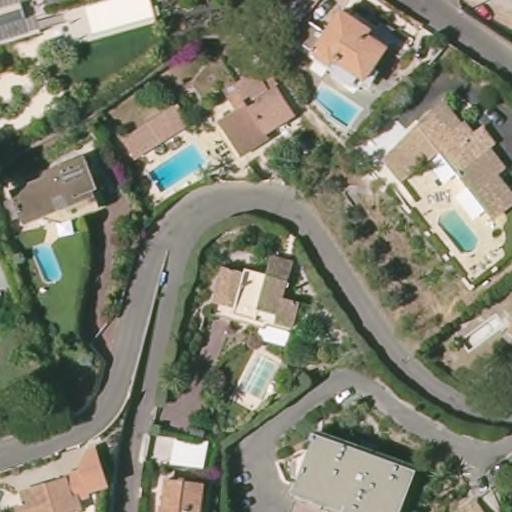pool: (151, 148, 210, 191), (312, 85, 362, 129), (241, 353, 283, 403), (435, 208, 479, 255), (32, 244, 64, 286)
